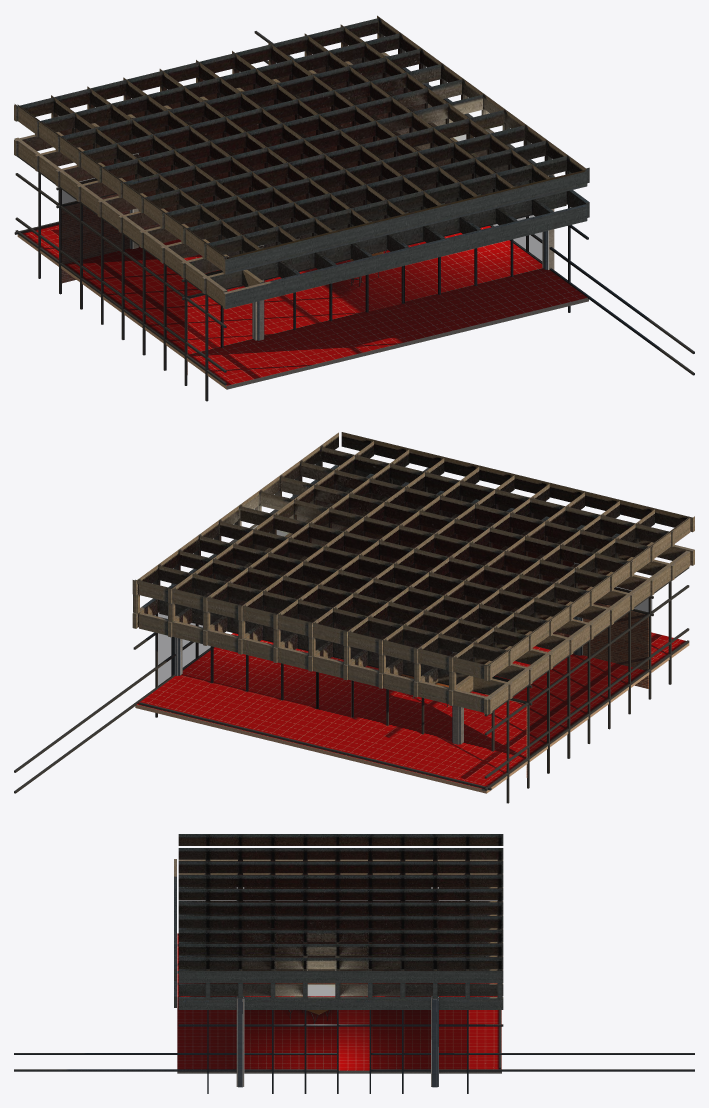
3 renders of one model, top to bottom at view 1: azimuth 30°, elevation 25°; view 2: azimuth 150°, elevation 25°; view 3: azimuth 270°, elevation 25°, orthographic. The views are drawn at different scales.
Visible parts, largest first — view 1: Techo22, piso001, Frame, ventana005, Pared001_ladrillos_0, Columnas_Concrete_0; view 2: Techo22, piso001, Frame, ventana005, Pared001_ladrillos_0, Columnas_Concrete_0; view 3: Techo22, piso001, ventana005, Frame, Columnas_Concrete_0.
Part boxes in pixels (x1,y1,x2,y2): Techo22: (14,15,589,309); piso001: (17,224,588,389); Frame: (14,31,694,401); ventana005: (58,178,541,352); Pared001_ladrillos_0: (61,193,532,374); Columnas_Concrete_0: (129,82,554,340); Techo22: (132,432,694,714); piso001: (135,632,689,793); Frame: (14,467,689,803); ventana005: (158,587,651,756); Pared001_ladrillos_0: (191,602,648,777); Columnas_Concrete_0: (171,494,582,744); Techo22: (174,834,503,1009); piso001: (177,933,501,1073); ventana005: (244,1010,466,1068); Frame: (14,1010,694,1093); Columnas_Concrete_0: (236,887,438,1087).
Bounding box in the file's own units: 18.39 × 7.51 × 37.73.
Materials: 9 (8 with a texture image).
